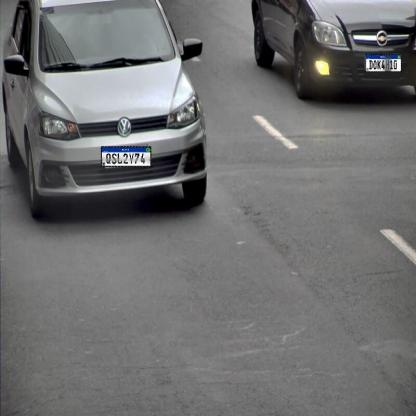PlacaM: (101, 146, 151, 167), (366, 54, 402, 72)
